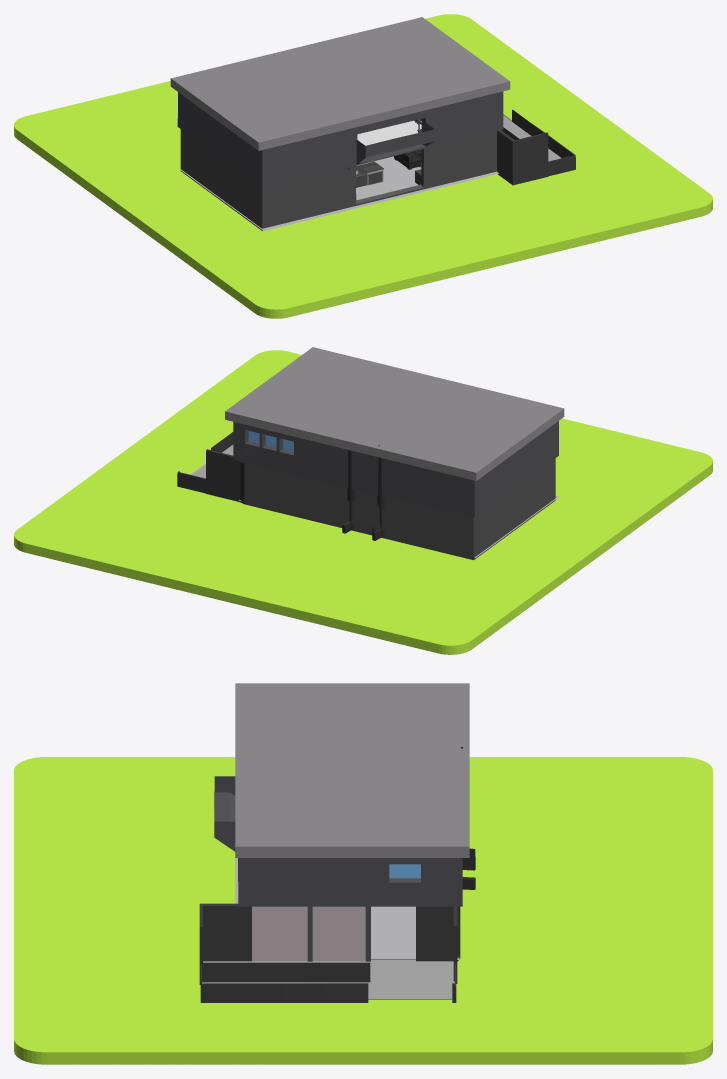
The model's file is camera2-transformed.glb.
The picture shows the model from 3 angles, top to bottom: view 1: azimuth 30°, elevation 25°; view 2: azimuth 150°, elevation 25°; view 3: azimuth 270°, elevation 25°; orthographic projection. The views are drawn at different scales.
Parts seen in each view (by area): view 1: Cube.020, Cube.017; view 2: Cube.020, Cube.017; view 3: Cube.020, Cube.017, Cube.
Boxes of the visible parts, <box> form: Cube.020: <box>14,14,712,318</box>; Cube.017: <box>177,91,503,188</box>; Cube.020: <box>14,347,712,654</box>; Cube.017: <box>233,421,558,517</box>; Cube.020: <box>14,683,712,1064</box>; Cube.017: <box>214,776,462,906</box>; Cube: <box>252,906,365,961</box>.
Bounding box in the file's own units: 10.42 × 2.23 × 10.42.
4 materials, 4 textured.
